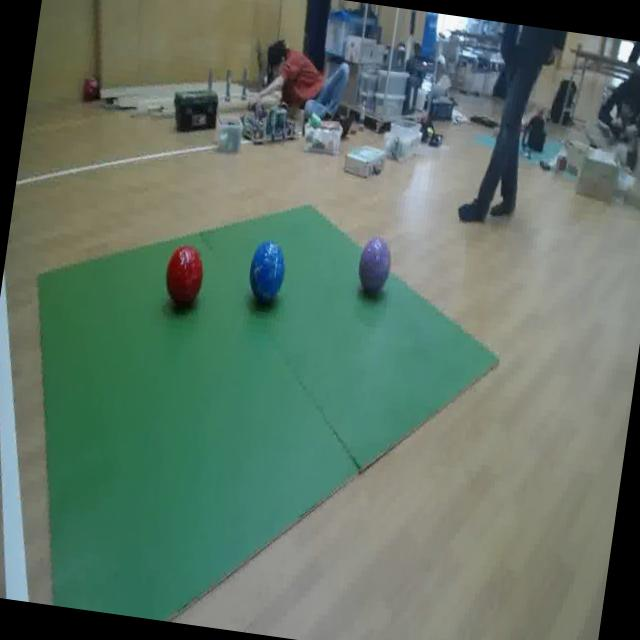blue_ball: (247, 238, 289, 304)
purple_ball: (356, 236, 394, 295)
red_ball: (164, 243, 208, 310)
